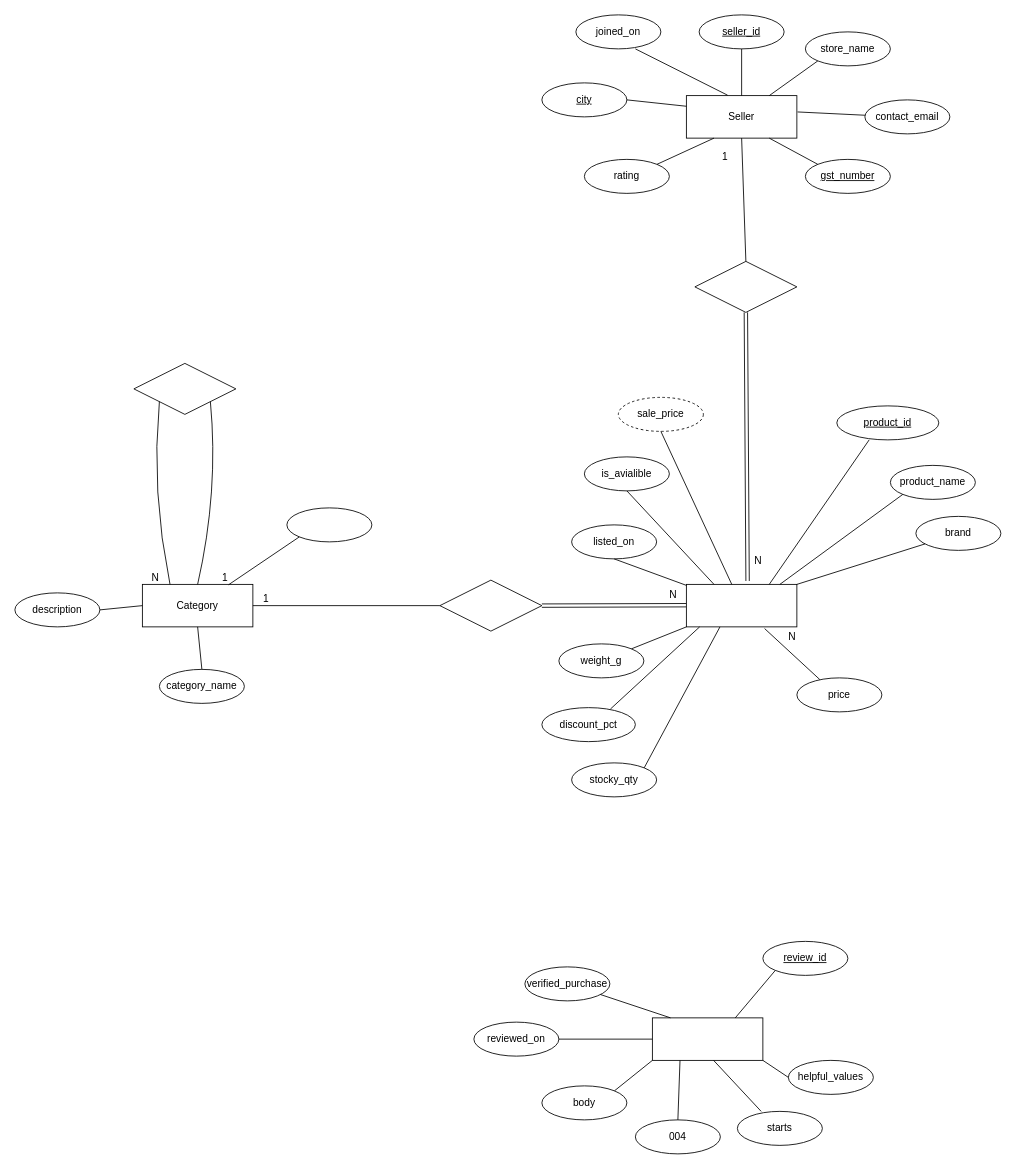
This 1016x1169 diagram has some shape labels left out. Each missing label, with the centre of its shape:
"category_id" goes at [329,524].
"classified" goes at [490,605].
"Product" goes at [741,605].
"Review" goes at [707,1038].
"sells" goes at [745,286].
"Sub_category 0f" goes at [184,388].
